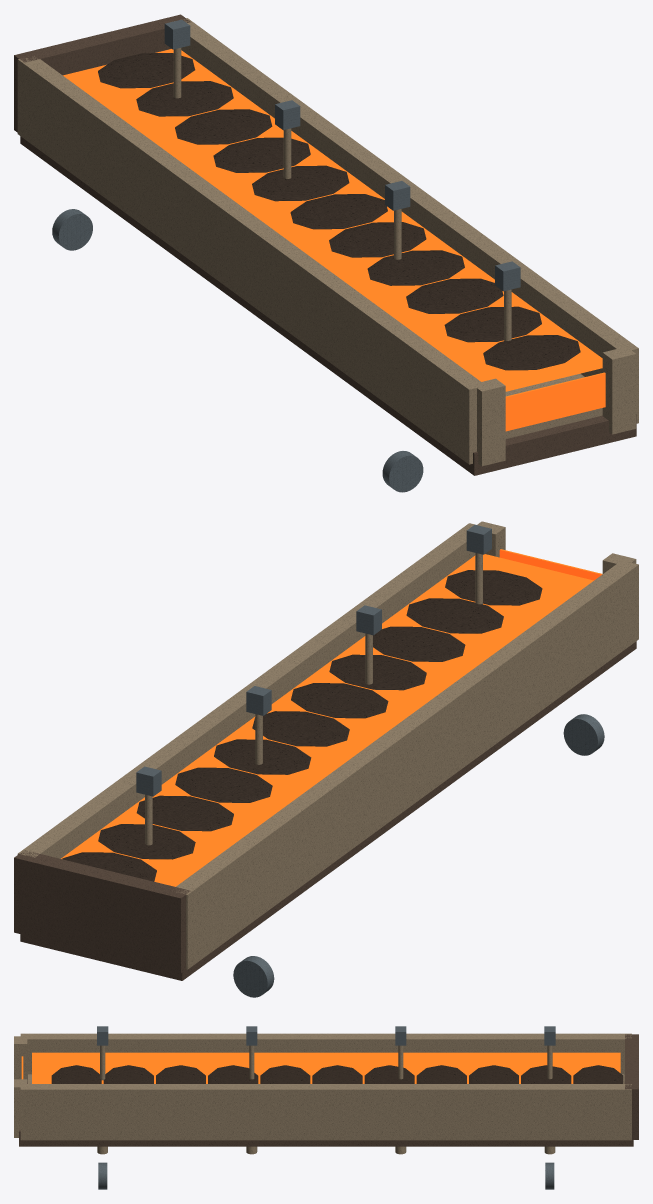
The model's file is steel-tundish.2a51ed720050.glb.
3 renders of one model, top to bottom at view 1: azimuth 30°, elevation 25°; view 2: azimuth 150°, elevation 25°; view 3: azimuth 270°, elevation 25°, orthographic. The views are drawn at different scales.
Visible parts, largest first — view 1: structure_refractory_00041, structure_slag_cover_00043, tundish_meniscus_00010, structure_rust_00040, structure_steel_00044, structure_molten_steel_00042; view 2: structure_refractory_00041, structure_slag_cover_00043, tundish_meniscus_00010, structure_rust_00040, structure_steel_00044, structure_molten_steel_00042; view 3: structure_refractory_00041, tundish_meniscus_00010, structure_slag_cover_00043, structure_rust_00040, structure_steel_00044.
Part boxes in pixels (<box>): structure_refractory_00041: <box>17,18,638,466</box>; structure_slag_cover_00043: <box>98,53,580,370</box>; tundish_meniscus_00010: <box>63,49,602,391</box>; structure_rust_00040: <box>14,14,636,475</box>; structure_steel_00044: <box>52,19,520,492</box>; structure_molten_steel_00042: <box>505,372,605,431</box>; structure_refractory_00041: <box>17,521,638,969</box>; structure_slag_cover_00043: <box>62,570,542,881</box>; tundish_meniscus_00010: <box>61,554,593,886</box>; structure_rust_00040: <box>14,641,636,980</box>; structure_steel_00044: <box>136,524,604,997</box>; structure_molten_steel_00042: <box>499,549,602,580</box>; structure_refractory_00041: <box>14,1033,631,1154</box>; tundish_meniscus_00010: <box>32,1052,620,1083</box>; structure_slag_cover_00043: <box>51,1065,623,1083</box>; structure_rust_00040: <box>19,1034,638,1146</box>; structure_steel_00044: <box>97,1026,555,1189</box>.
Size of the model in its own units: 4.52 by 3.96 by 16.77.
Materials: 5 (4 with a texture image).
